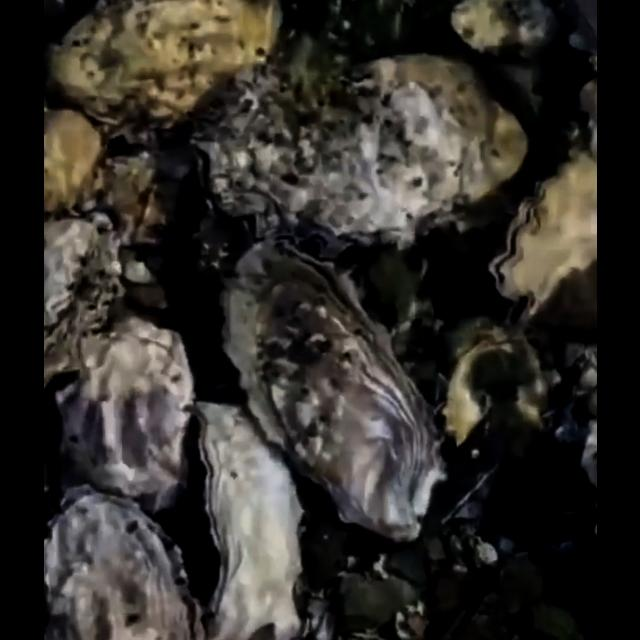Oyster-Closed: (42, 0, 286, 148), (52, 312, 196, 514), (187, 401, 303, 640), (43, 492, 199, 640), (43, 210, 121, 382), (448, 0, 554, 62), (44, 104, 104, 210)
Oyster-Open: (218, 240, 450, 548), (187, 54, 525, 264), (482, 147, 596, 337)
